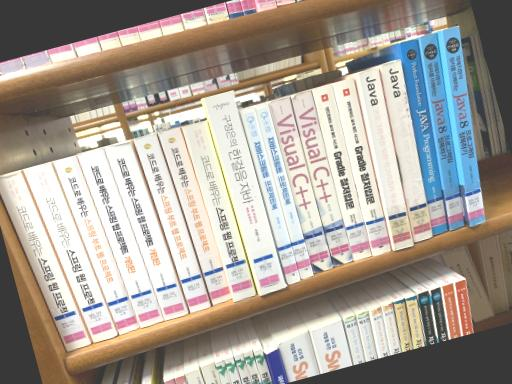book-spine: (203, 90, 286, 296), (23, 162, 117, 343), (0, 171, 90, 352), (78, 147, 164, 328), (53, 154, 139, 334), (104, 140, 188, 320), (134, 133, 211, 312), (182, 120, 257, 302), (158, 127, 232, 305), (268, 96, 332, 273), (290, 89, 352, 267), (240, 106, 300, 284), (312, 84, 371, 259), (333, 78, 391, 256), (255, 101, 313, 278), (358, 67, 413, 250), (399, 38, 448, 234), (380, 58, 432, 241), (419, 32, 464, 229), (441, 25, 485, 226)
